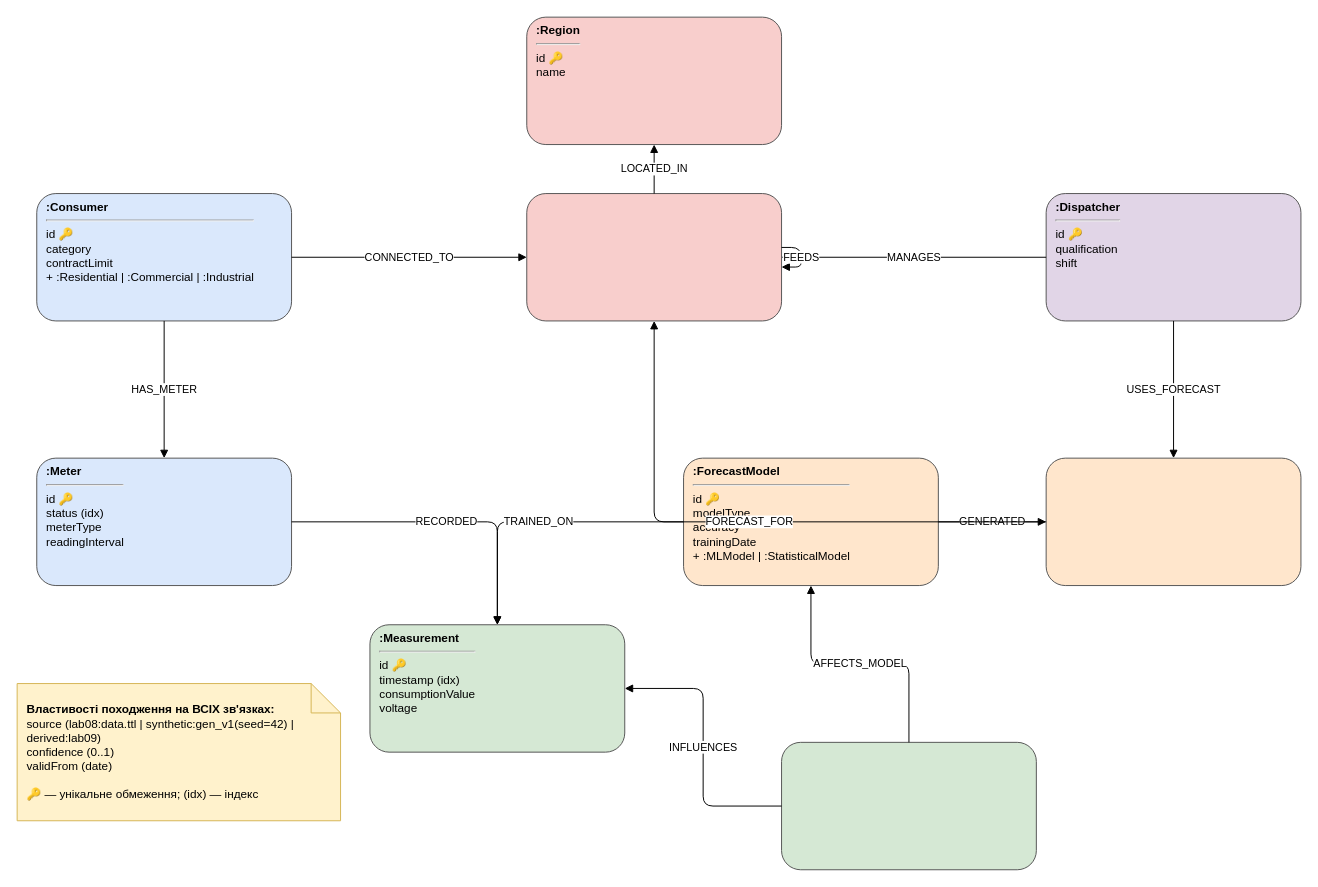
The diagram is 1318 pixels wide and 887 high, and some of its shapes have lost their labels. The shapes that lost their labels are listed below. From the top down, each one's box as (x1, y1, x2, y2) in pixels, then its label:
(526, 193, 782, 321): :Substation id 🔑 nominalCapacity currentLoad pagerank, community (GDS)
(1045, 457, 1301, 586): :Forecast id 🔑 errorPercentage (idx) predictedConsumption forecastPeriod
(781, 741, 1036, 870): :WeatherCondition id 🔑 temperature cloudCover
